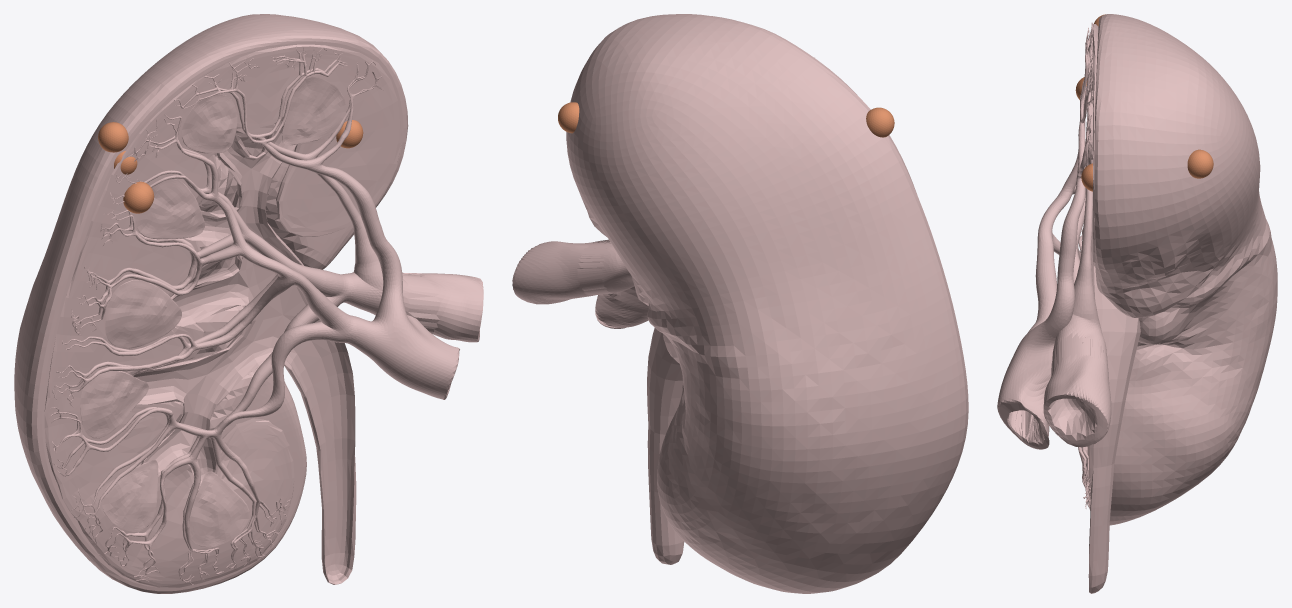
File: kidney_cecc3abe.glb
3 views of the same model, side by side, from view 1: azimuth 30°, elevation 25°; view 2: azimuth 150°, elevation 25°; view 3: azimuth 270°, elevation 25° (orthographic). The views are drawn at different scales.
Parts seen in each view (by area): view 1: world; view 2: world; view 3: world.
Part boxes in pixels (<box>): world: <box>14,14,483,593</box>; world: <box>512,14,968,593</box>; world: <box>997,14,1277,593</box>.
Size of the model in its own units: 8.47 by 10.1 by 4.88.
